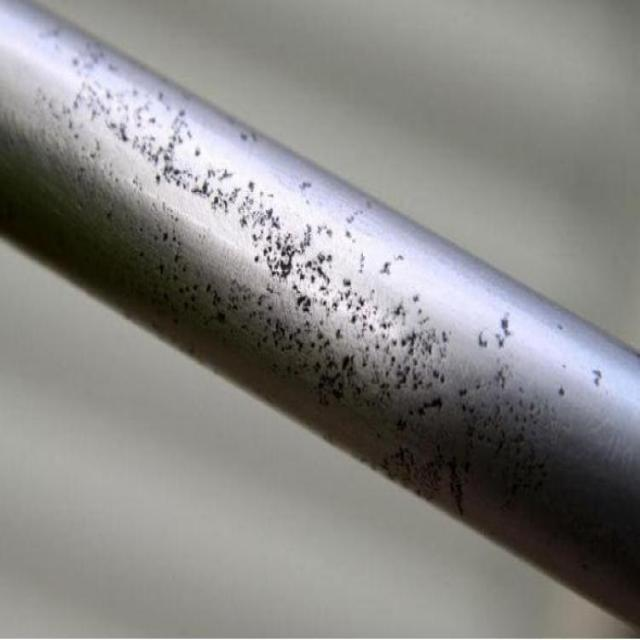Pitting Corrosion: (21, 7, 623, 580)
